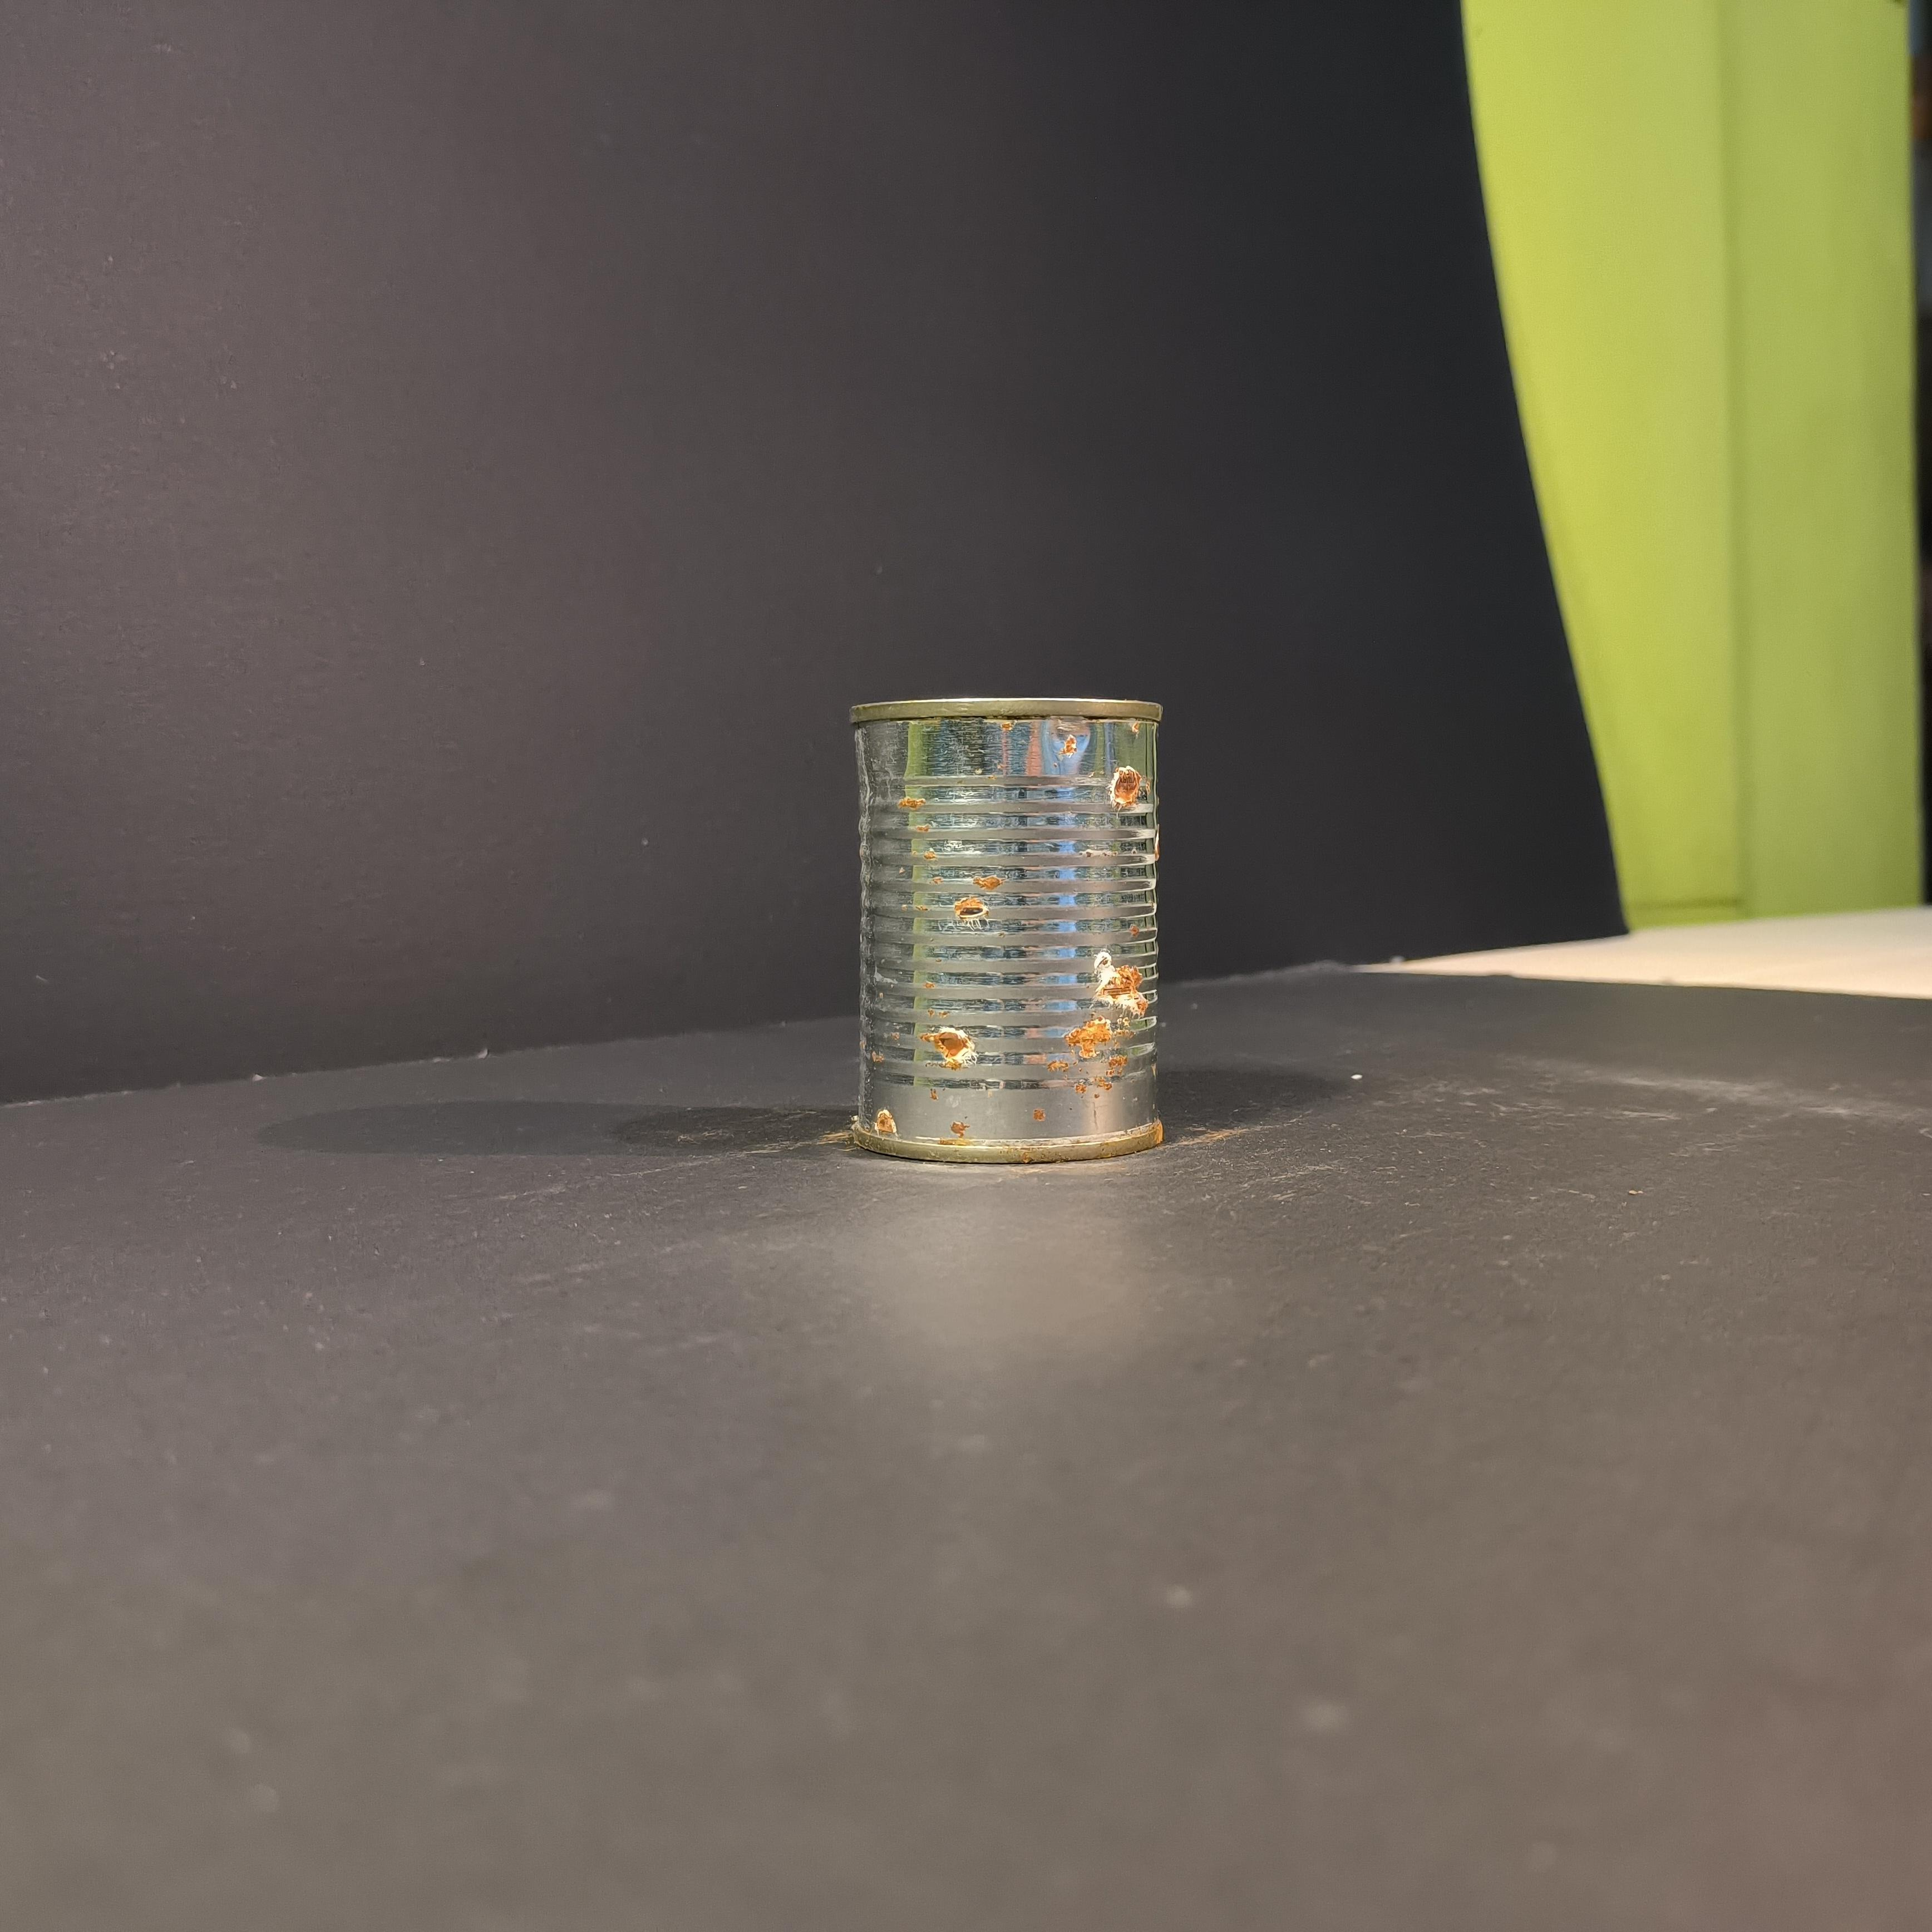Rusted: (855, 674, 1177, 1168)
